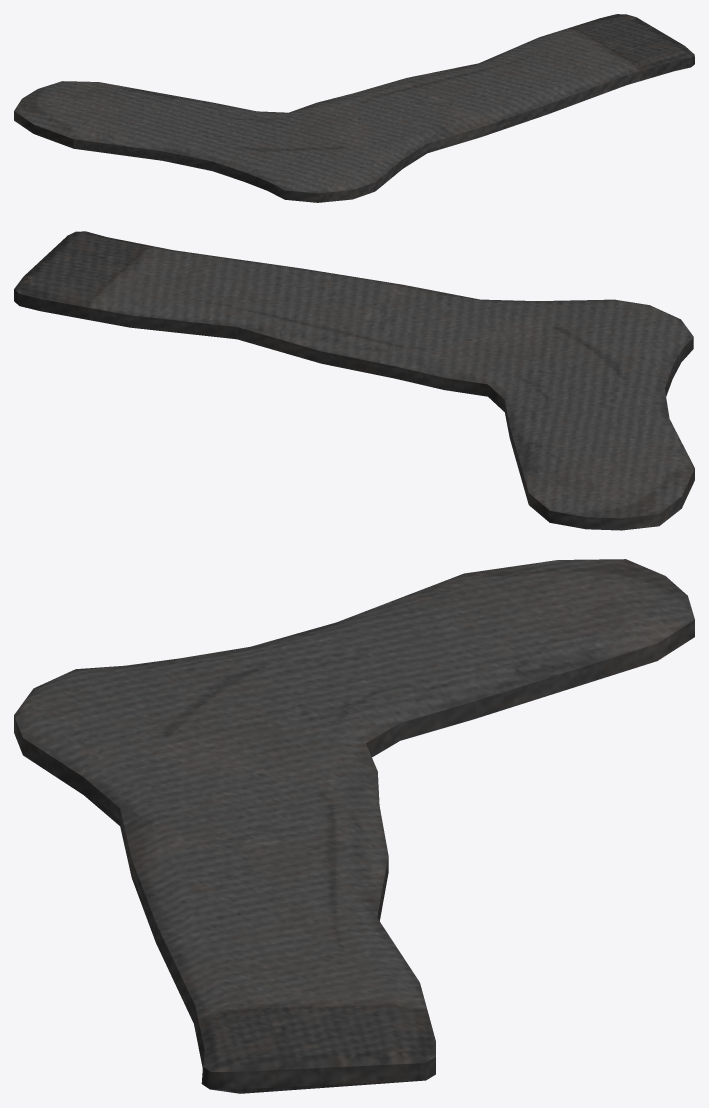
The model's file is SM_Sock_02.fbx.
The picture shows the model from 3 angles, top to bottom: view 1: azimuth 30°, elevation 25°; view 2: azimuth 150°, elevation 25°; view 3: azimuth 270°, elevation 25°; orthographic projection. The views are drawn at different scales.
Parts seen in each view (by area): view 1: SM_Sock_02_LOD0; view 2: SM_Sock_02_LOD0; view 3: SM_Sock_02_LOD0.
Part boxes in pixels (x1=…): SM_Sock_02_LOD0: x1=14, y1=14, x2=694, y2=202; SM_Sock_02_LOD0: x1=14, y1=231, x2=694, y2=530; SM_Sock_02_LOD0: x1=14, y1=559, x2=694, y2=1093.
Size of the model in its own units: 32.4 by 18.18 by 1.11.
